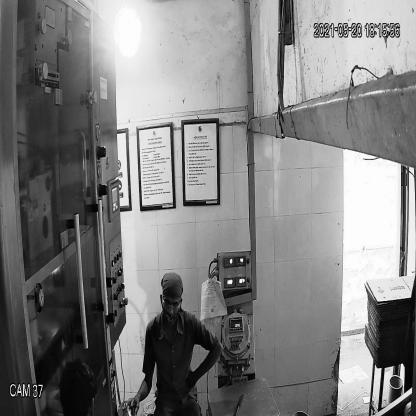goggles: (158, 292, 183, 314)
